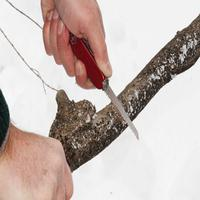knife: (49, 6, 146, 152)
